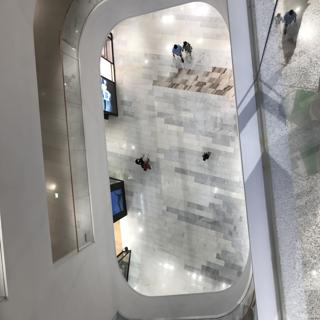person: (166, 37, 185, 78), (129, 149, 152, 179), (182, 37, 200, 68), (199, 146, 218, 167)
